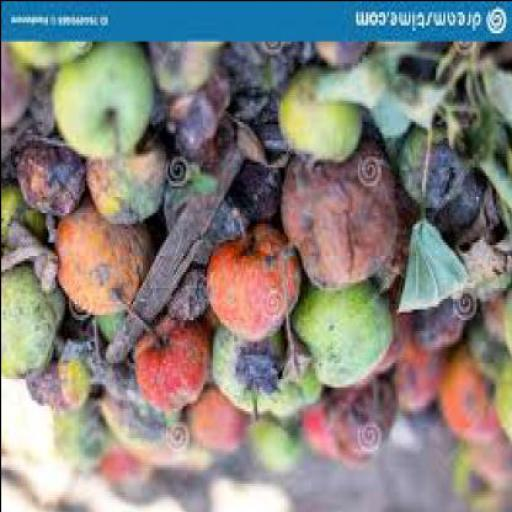biodegradable: (283, 142, 401, 295), (165, 115, 269, 268), (51, 46, 155, 164), (53, 206, 159, 317), (208, 228, 304, 346), (291, 284, 396, 389), (96, 399, 214, 480), (277, 70, 365, 166), (2, 255, 69, 380), (88, 134, 168, 228), (212, 327, 293, 418), (397, 223, 469, 316), (438, 343, 505, 442), (397, 126, 474, 209), (324, 383, 398, 461), (20, 139, 87, 220), (476, 114, 511, 258), (362, 75, 448, 132), (391, 335, 448, 416), (186, 388, 245, 461), (455, 228, 511, 304), (306, 62, 388, 113), (223, 40, 300, 94), (56, 408, 115, 477), (2, 185, 56, 252), (108, 394, 171, 450), (272, 348, 320, 421), (152, 46, 226, 91), (2, 41, 35, 134), (236, 160, 287, 220), (380, 212, 415, 298), (250, 418, 301, 477), (470, 311, 512, 378), (463, 437, 511, 492), (371, 311, 411, 376), (26, 370, 86, 413), (476, 64, 511, 133), (12, 42, 91, 70), (303, 400, 341, 458), (168, 276, 210, 327), (91, 453, 151, 485), (486, 300, 511, 358), (314, 46, 374, 70), (398, 407, 444, 432), (390, 418, 422, 453), (498, 358, 511, 443), (405, 413, 444, 429)
